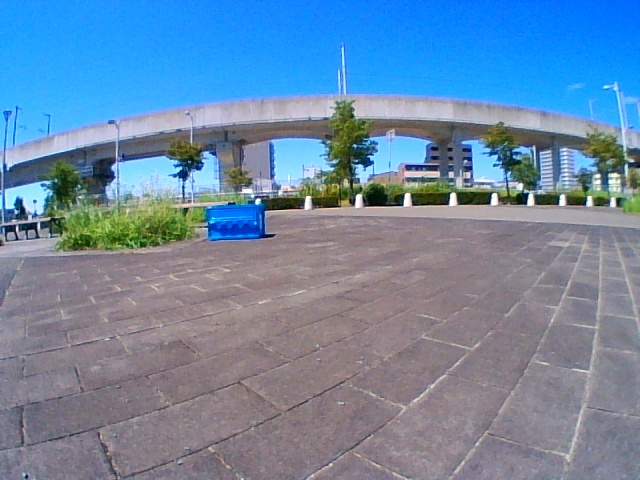blue_box: (209, 205, 265, 238)
tag: (259, 216, 261, 229)
